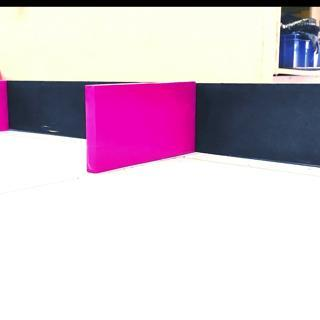xparking: (86, 86, 196, 168), (1, 81, 6, 127)
